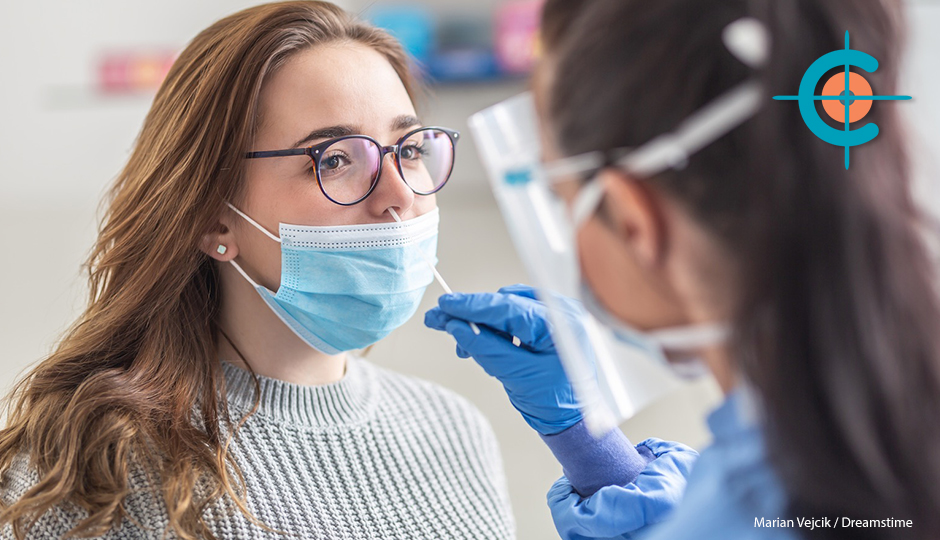with_incorrect_mask: (277, 95, 442, 320)
